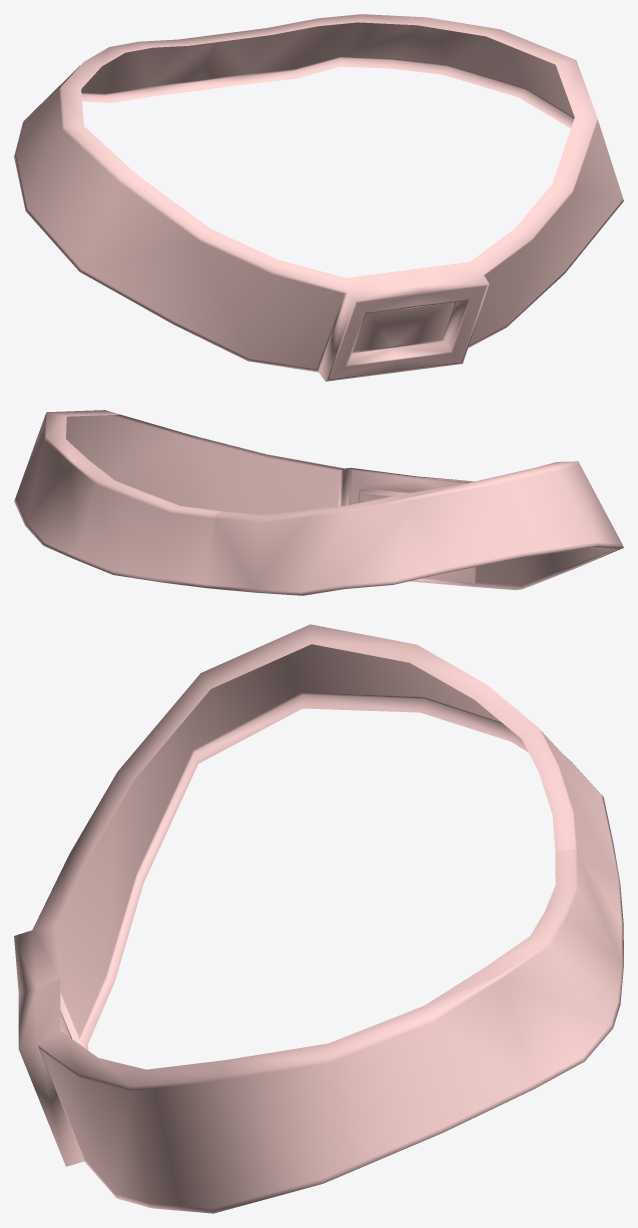
The model's file is belt.fbx.
3 renders of one model, top to bottom at view 1: azimuth 30°, elevation 25°; view 2: azimuth 150°, elevation 25°; view 3: azimuth 270°, elevation 25°, orthographic. The views are drawn at different scales.
Parts seen in each view (by area): view 1: Blenda-Pants.001; view 2: Blenda-Pants.001; view 3: Blenda-Pants.001.
Boxes of the visible parts, box(x1,y1,x2,y2) form: Blenda-Pants.001: box(14, 14, 623, 381); Blenda-Pants.001: box(14, 410, 623, 595); Blenda-Pants.001: box(14, 624, 623, 1213).
Bounding box in the file's own units: 35.74 × 14.59 × 23.68.
